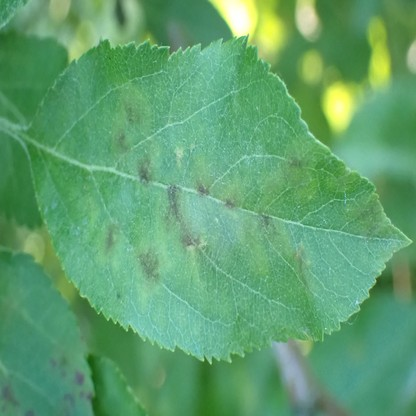scab: (233, 214, 268, 281), (116, 82, 152, 137), (132, 245, 168, 293), (342, 195, 384, 236), (281, 142, 315, 185), (158, 184, 189, 230), (131, 142, 161, 188), (191, 280, 225, 318), (97, 221, 123, 264), (43, 348, 71, 385), (259, 171, 282, 207), (291, 242, 310, 285), (81, 198, 101, 234), (256, 209, 281, 237), (192, 158, 210, 194), (110, 125, 130, 155), (294, 176, 315, 204), (222, 181, 242, 209), (179, 231, 204, 247), (1, 384, 18, 407), (74, 367, 85, 387), (65, 392, 76, 410), (175, 147, 183, 165), (23, 409, 33, 416), (87, 392, 94, 402), (79, 391, 84, 400)
